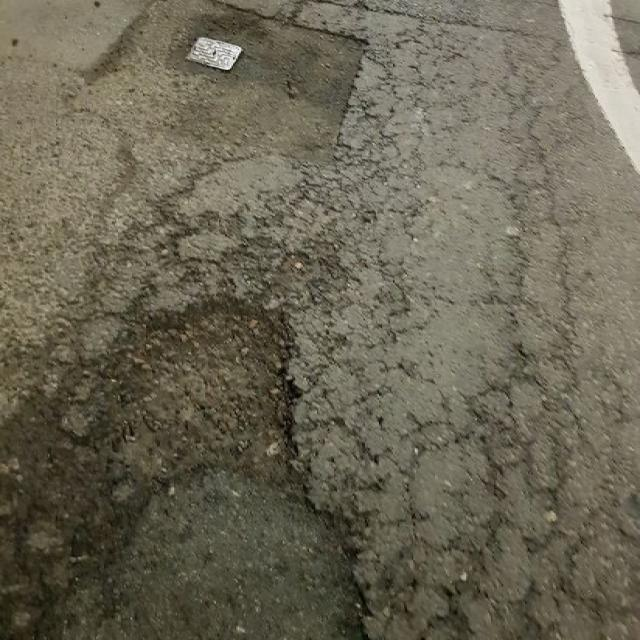pothole: (112, 290, 314, 478)
